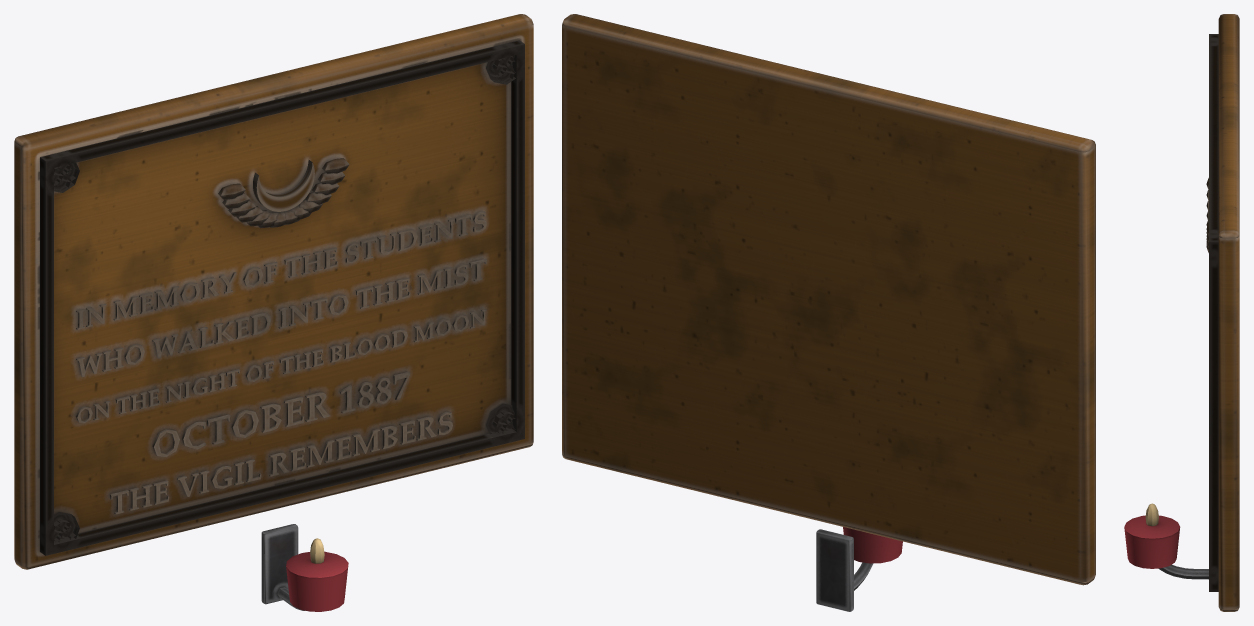
File: PlaqueMemorial.fbx
3 renders of one model, left to right at view 1: azimuth 30°, elevation 25°; view 2: azimuth 150°, elevation 25°; view 3: azimuth 270°, elevation 25°, orthographic. The views are drawn at different scales.
Visible parts, largest first — view 1: PlaqueMemorial_Main; view 2: PlaqueMemorial_Main; view 3: PlaqueMemorial_Main, PlaqueMemorial_Glow.
Boxes of the visible parts, x1=… form: PlaqueMemorial_Main: x1=14, y1=14, x2=533, y2=611; PlaqueMemorial_Main: x1=562, y1=14, x2=1095, y2=611; PlaqueMemorial_Main: x1=1124, y1=14, x2=1239, y2=611; PlaqueMemorial_Glow: x1=1145, y1=503, x2=1158, y2=526.
Bounding box in the file's own units: 300 × 290 × 66.
